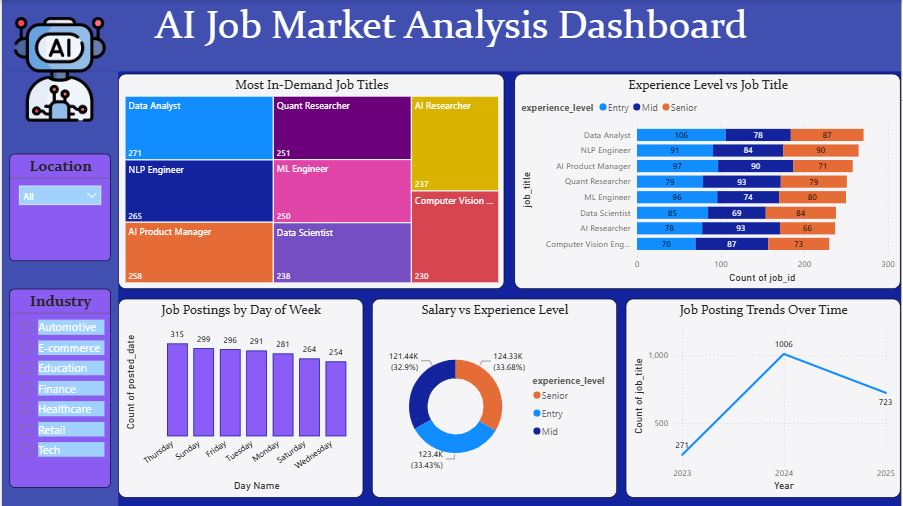

This screenshot's page, from the dashboard's own definition file:
{"tool":"powerbi","page":{"name":"Page 1","canvas":[1280,720],"ordinal":0},"visuals":[{"type":"columnChart","title":"Job Postings by Day of Week","fields":{"Category":["ai_job_market.Day Name"],"Y":["CountNonNull(ai_job_market.posted_date)"]},"box":[165.5,425.4,348.8,283],"z":0},{"type":"treemap","title":"Most In-Demand Job Titles","fields":{"Group":["ai_job_market.job_title"],"Values":["CountNonNull(ai_job_market.job_title)"]},"box":[165.5,105,550,306.1],"z":1000},{"type":"barChart","title":"Experience Level vs Job Title","fields":{"Category":["ai_job_market.job_title"],"Y":["CountNonNull(ai_job_market.job_id)"],"Series":["ai_job_market.experience_level"]},"box":[729.7,105,550,306.1],"z":2000},{"type":"textbox","title":"AI Job Market Analysis Dashboard","box":[0,0,1279.7,101.4],"z":3000},{"type":"textbox","box":[0,100.6,165.5,619.4],"z":4000},{"type":"slicer","title":"Location","fields":{"Values":["ai_job_market.location"]},"box":[10.7,218.9,144.2,153.1],"z":5000},{"type":"slicer","title":"Industry","fields":{"Values":["ai_job_market.industry"]},"box":[10.7,411.1,144.2,283],"z":6000},{"type":"image","box":[0,19.6,165.5,158.4],"z":7000},{"type":"donutChart","title":"Salary vs Experience Level","fields":{"Category":["ai_job_market.experience_level"],"Y":["Avg(ai_job_market.salary_mid)"]},"box":[526.8,425.4,348.8,283],"z":8000},{"type":"lineChart","title":"Job Posting Trends Over Time","fields":{"Category":["ai_job_market.posted_date.Variation.Date Hierarchy.Year","ai_job_market.posted_date.Variation.Date Hierarchy.Month"],"Y":["CountNonNull(ai_job_market.job_title)"]},"box":[888.1,425.4,391.6,283],"z":9000}]}

Visuals, with their boxes in screenshot pixels (x1, y1, x2, y2), scaled from the page's 1280x720 canvas onto the 903x506 screenshot:
"Job Postings by Day of Week" columnChart: [x1=117, y1=299, x2=363, y2=498]
"Most In-Demand Job Titles" treemap: [x1=117, y1=74, x2=505, y2=289]
"Experience Level vs Job Title" barChart: [x1=515, y1=74, x2=902, y2=289]
"AI Job Market Analysis Dashboard" textbox: [x1=0, y1=0, x2=902, y2=71]
textbox: [x1=0, y1=71, x2=117, y2=505]
"Location" slicer: [x1=8, y1=154, x2=109, y2=261]
"Industry" slicer: [x1=8, y1=289, x2=109, y2=488]
image: [x1=0, y1=14, x2=117, y2=125]
"Salary vs Experience Level" donutChart: [x1=372, y1=299, x2=618, y2=498]
"Job Posting Trends Over Time" lineChart: [x1=627, y1=299, x2=902, y2=498]
